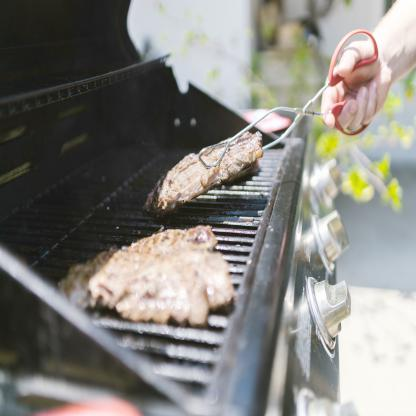Carne: (90, 225, 234, 322), (154, 130, 264, 208)
